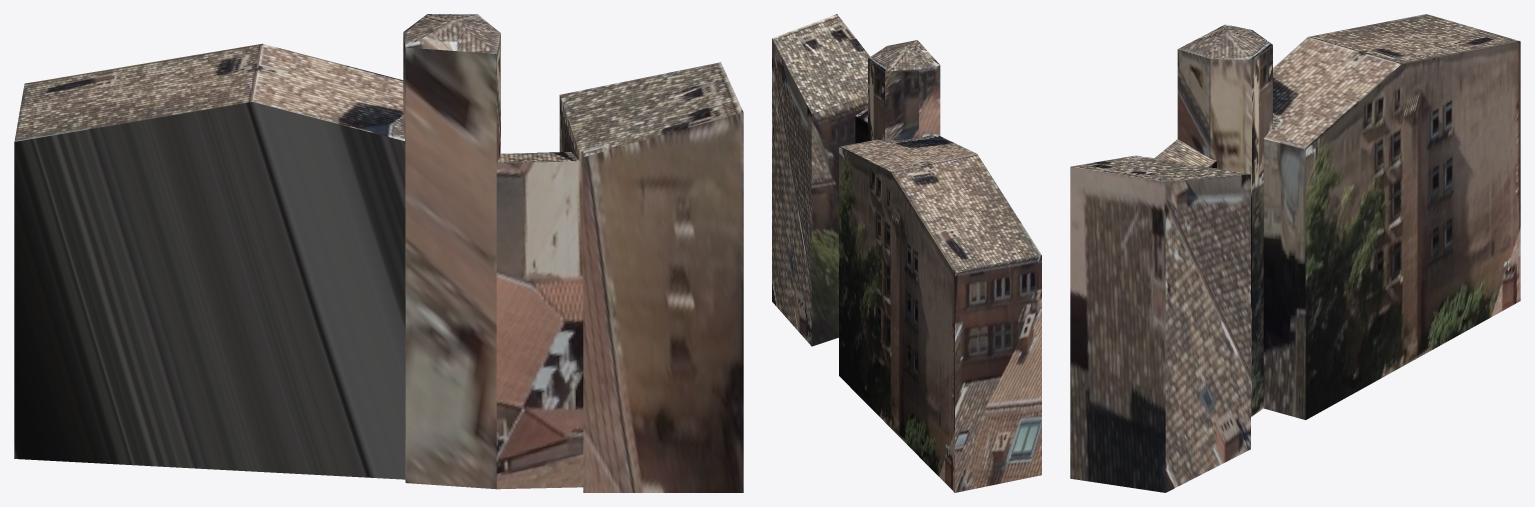
3 views of the same model, side by side, from view 1: azimuth 30°, elevation 25°; view 2: azimuth 150°, elevation 25°; view 3: azimuth 270°, elevation 25° (orthographic). The views are drawn at different scales.
Parts seen in each view (by area): view 1: Z_UP; view 2: Z_UP; view 3: Z_UP.
Part boxes in pixels (x1=…): Z_UP: x1=14, y1=14, x2=743, y2=492; Z_UP: x1=772, y1=14, x2=1041, y2=492; Z_UP: x1=1070, y1=14, x2=1520, y2=492.
Bounding box in the file's own units: 30.21 × 23.73 × 26.24.
Materials: 2 (1 with a texture image).
